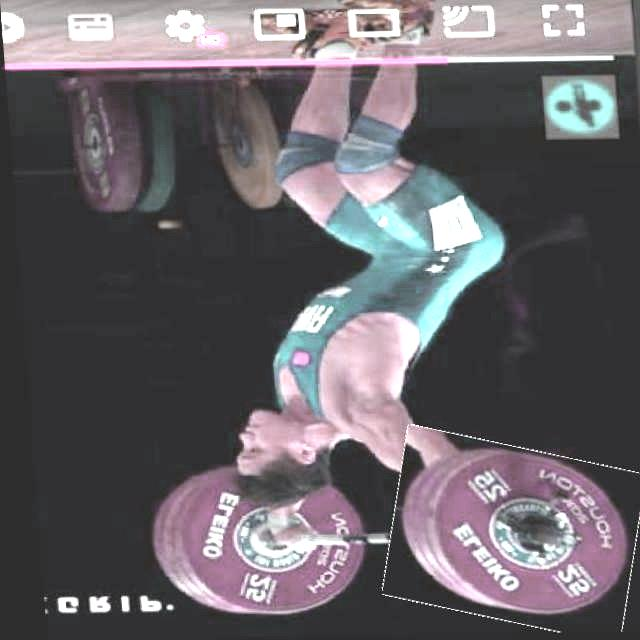barbell: (372, 437, 640, 637)
